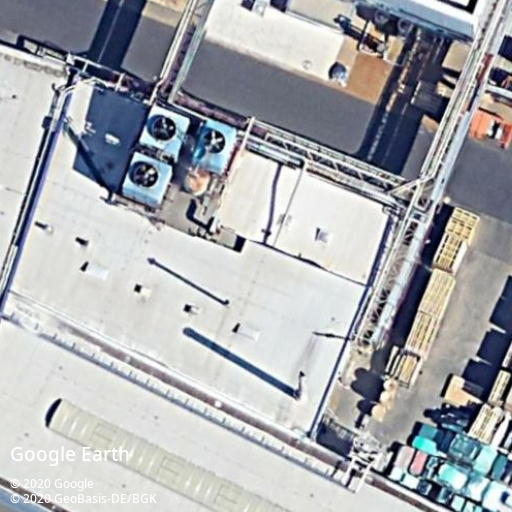Vent: (151, 116, 178, 141), (201, 129, 226, 155), (133, 163, 159, 188)
